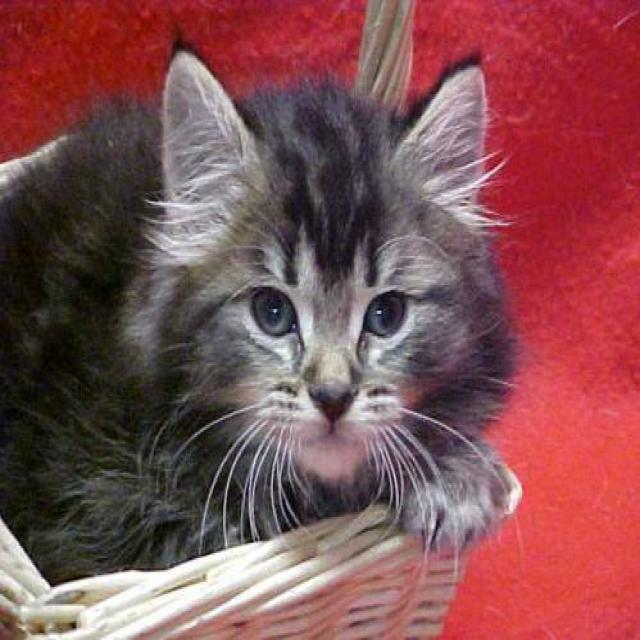cat: (0, 0, 525, 587)
